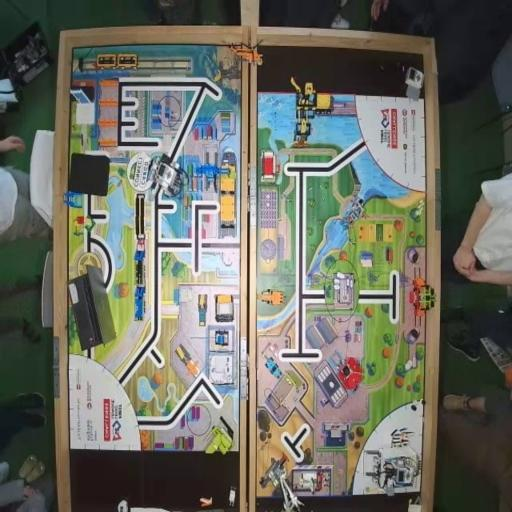lego_robot: (364, 449, 420, 497), (148, 153, 186, 199)
